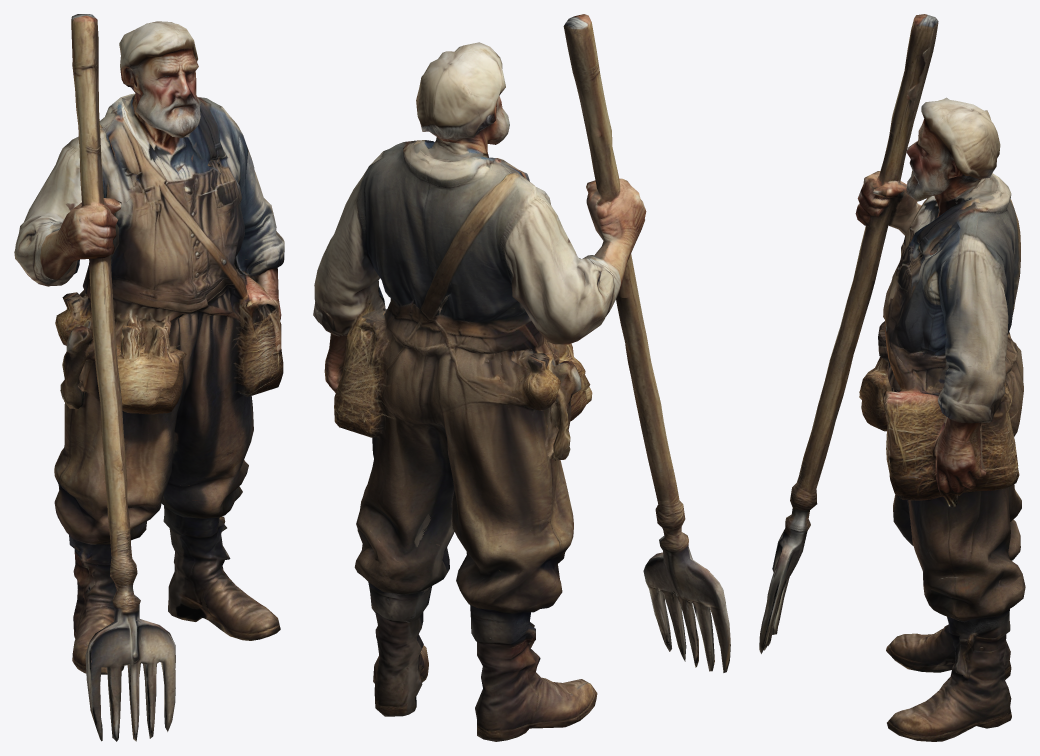
Rendered from Meshy_AI_un_agricoltore_mediev_0308161151_texture.fbx.
The picture shows the model from 3 angles, left to right: view 1: azimuth 30°, elevation 25°; view 2: azimuth 150°, elevation 25°; view 3: azimuth 270°, elevation 25°; orthographic projection. The views are drawn at different scales.
Visible parts, largest first — view 1: Mesh_0; view 2: Mesh_0; view 3: Mesh_0.
Part boxes in pixels (left/top/right/bottom): Mesh_0: left=14, top=14, right=284, bottom=741; Mesh_0: left=313, top=14, right=730, bottom=741; Mesh_0: left=759, top=14, right=1025, bottom=741.
Bounding box in the file's own units: 92.33 × 202 × 75.81.
Materials: 1 (1 with a texture image).
